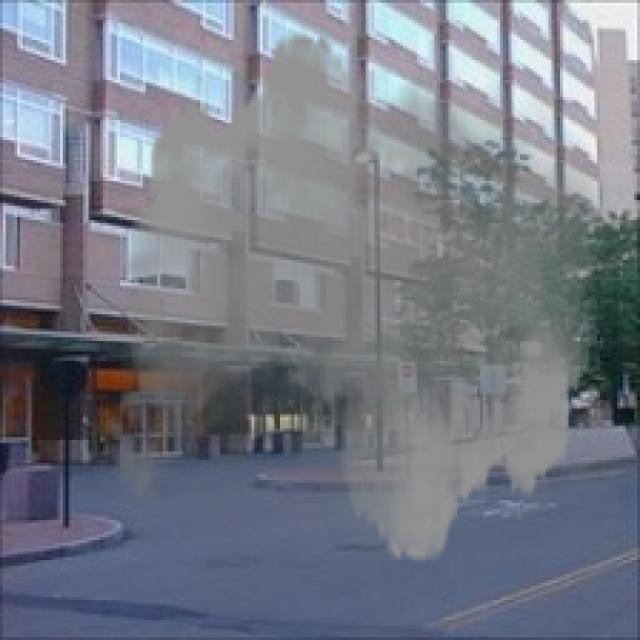Smoke: (85, 14, 620, 580)
